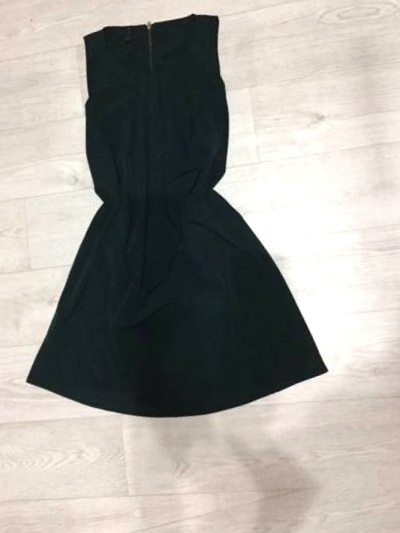Dress: (0, 0, 340, 449)
